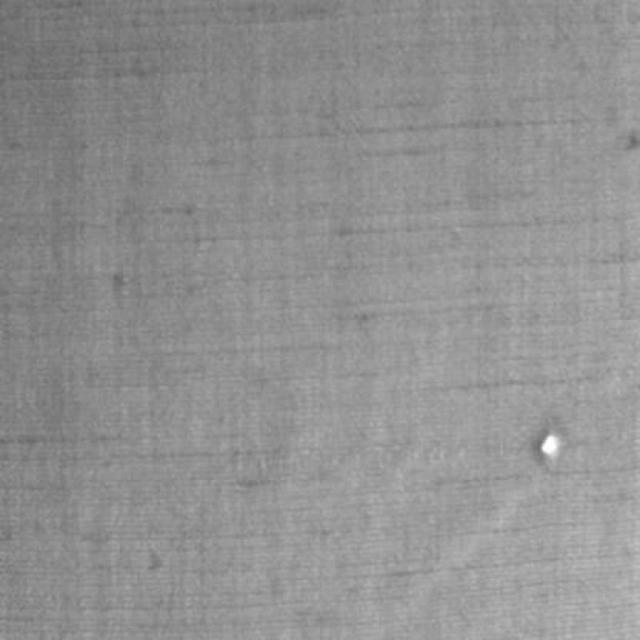seam: (490, 398, 588, 496)
